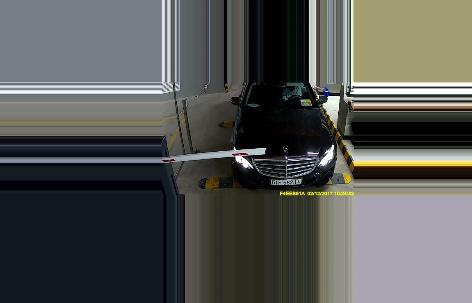License_Plate: (271, 177, 303, 187)
